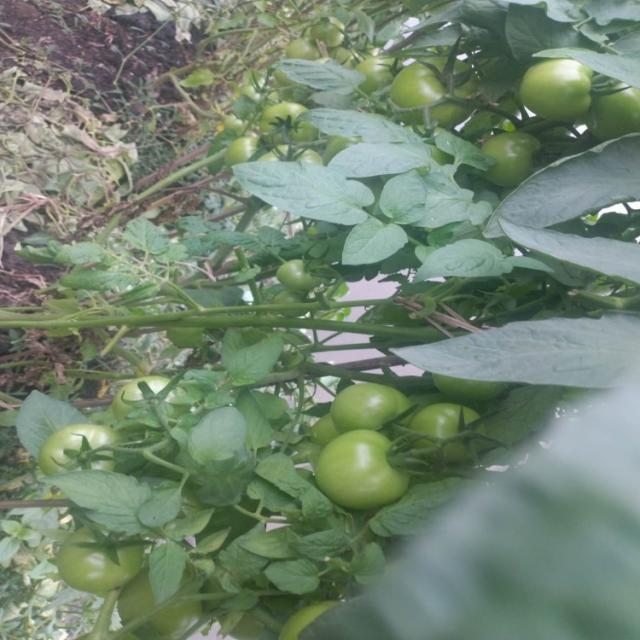tomato: (315, 422, 414, 502), (57, 526, 147, 605), (394, 50, 478, 129), (407, 393, 499, 460), (325, 367, 410, 439), (35, 421, 130, 480), (515, 58, 598, 120), (122, 592, 223, 640), (255, 89, 317, 145), (114, 367, 188, 411), (480, 137, 538, 193), (201, 123, 269, 167), (590, 77, 640, 131), (356, 50, 408, 96), (274, 258, 327, 298)
